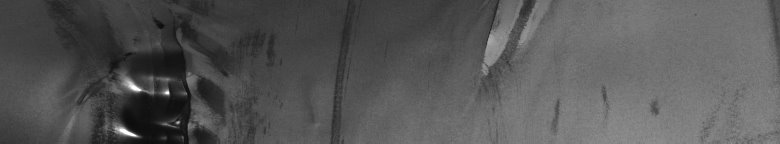ke: (68, 20, 227, 136)
